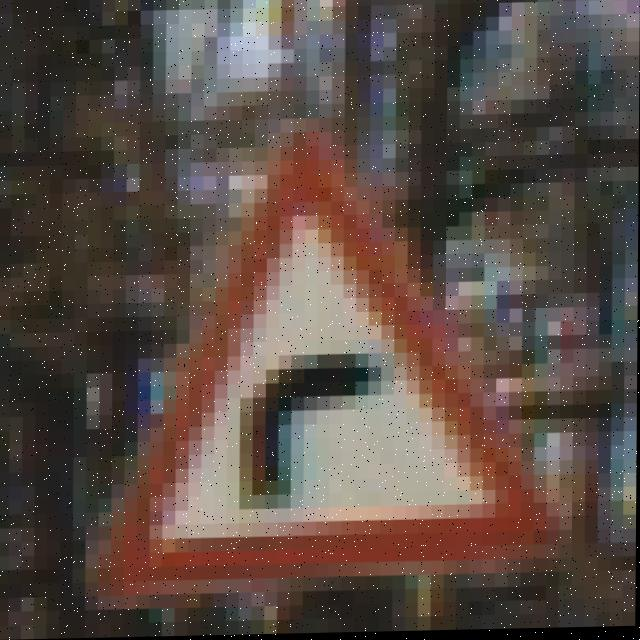right_turn: (142, 180, 546, 587)
